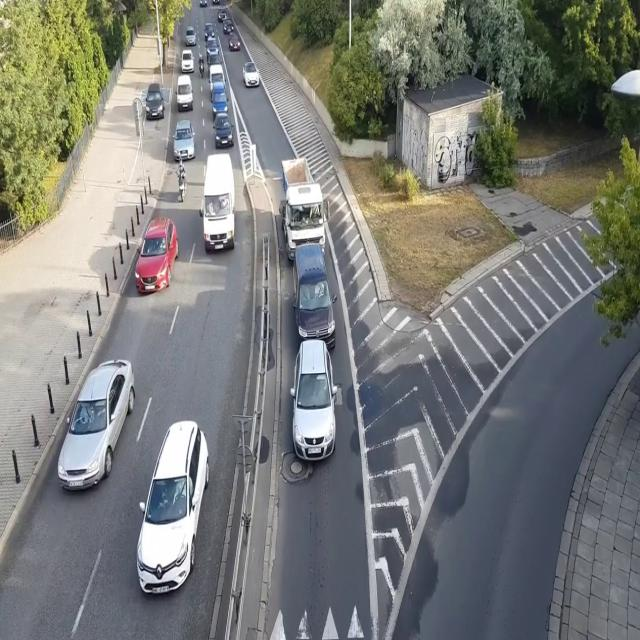car: (135, 419, 210, 597), (57, 358, 136, 492), (290, 340, 339, 458), (134, 215, 180, 295), (171, 118, 197, 164), (212, 113, 235, 148), (144, 82, 165, 120), (243, 60, 261, 89), (180, 50, 195, 73), (228, 32, 242, 53), (184, 25, 196, 49), (203, 22, 216, 41), (216, 6, 228, 22), (223, 18, 234, 35), (198, 0, 208, 8), (211, 0, 220, 6)
motorcycle: (176, 158, 189, 204), (198, 52, 205, 78)
truck: (280, 156, 330, 264)
van: (291, 243, 338, 351), (200, 154, 237, 253), (175, 73, 195, 112), (208, 81, 229, 116), (208, 64, 228, 92), (204, 36, 220, 58)
